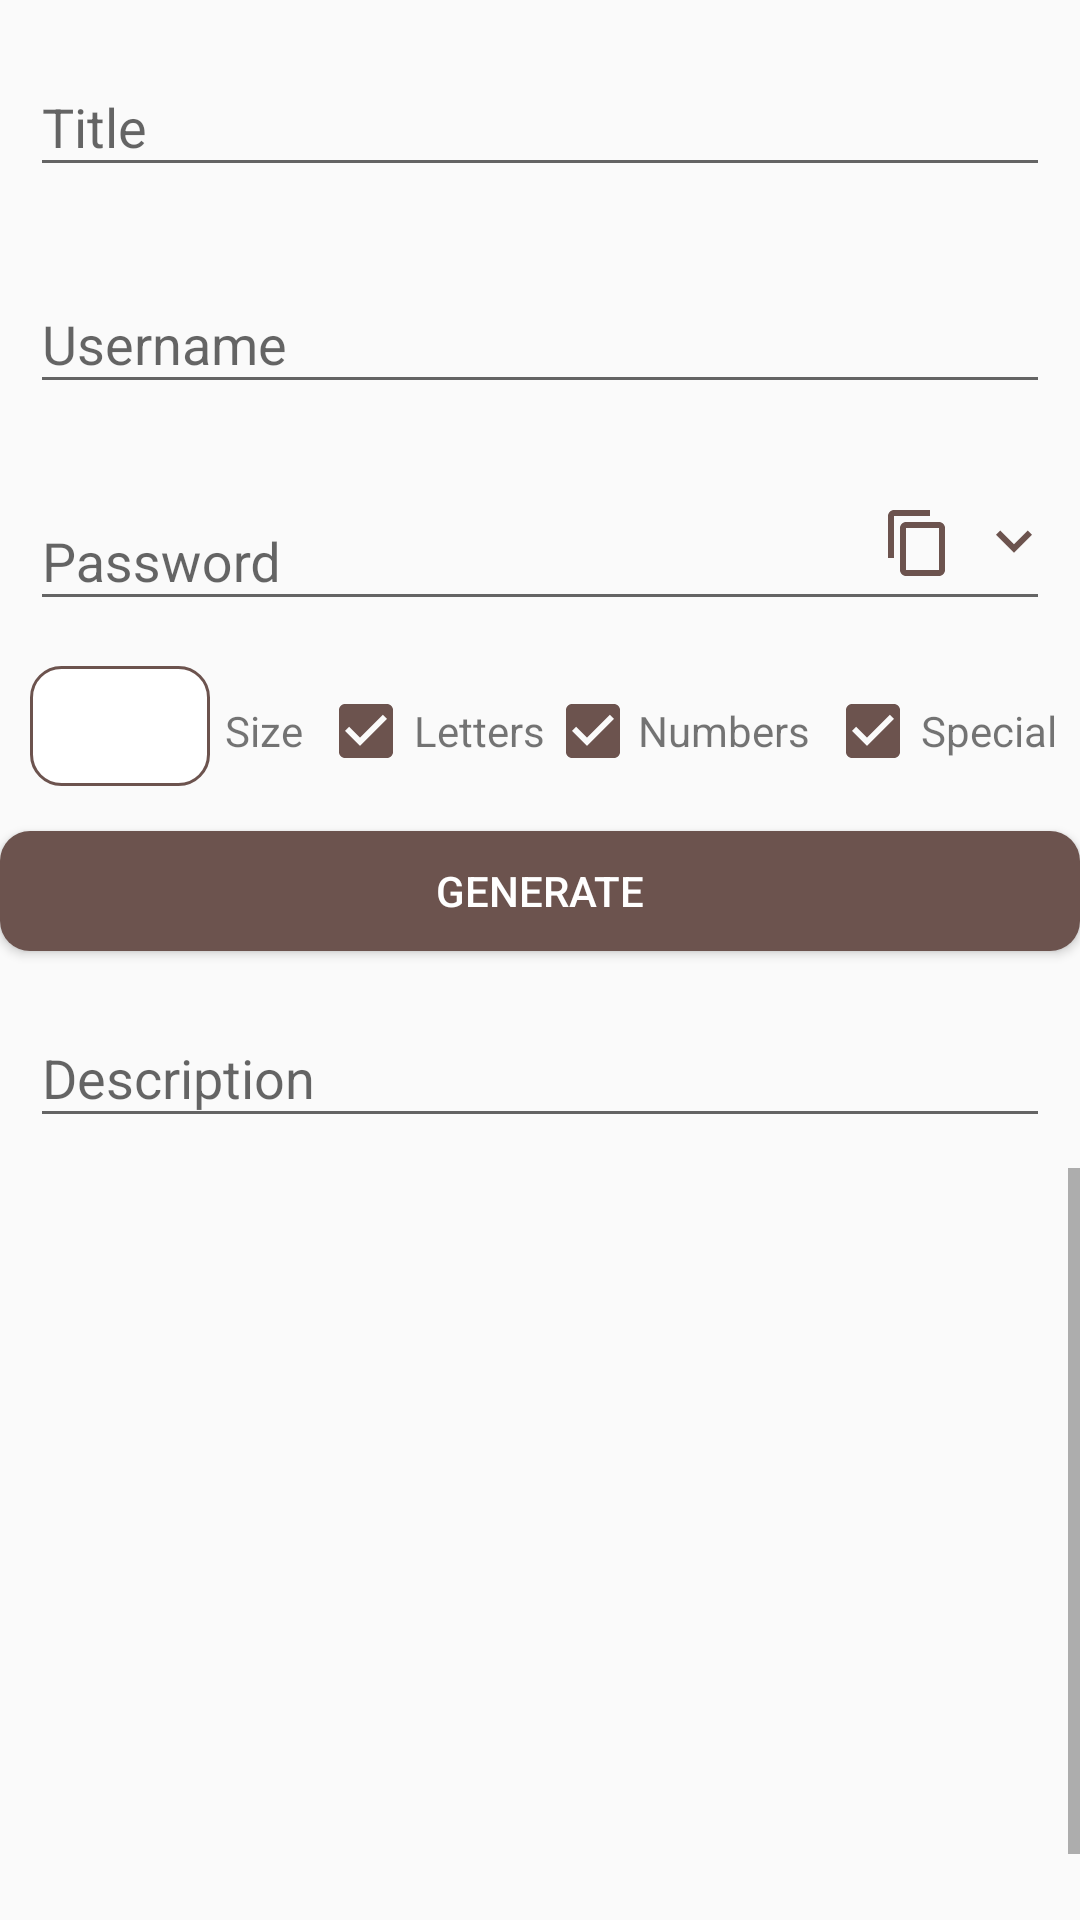

Icon click points for this 1080*1920 phone screenshot, format (x,y):
arrow down: (1014,541)
